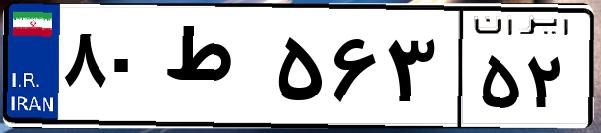0: (110, 28, 158, 98)
2: (525, 38, 570, 115)
3: (385, 28, 445, 110)
5: (270, 28, 330, 110), (475, 38, 525, 113)
6: (330, 28, 385, 110)
8: (57, 26, 110, 100)
ط: (158, 20, 270, 120)
